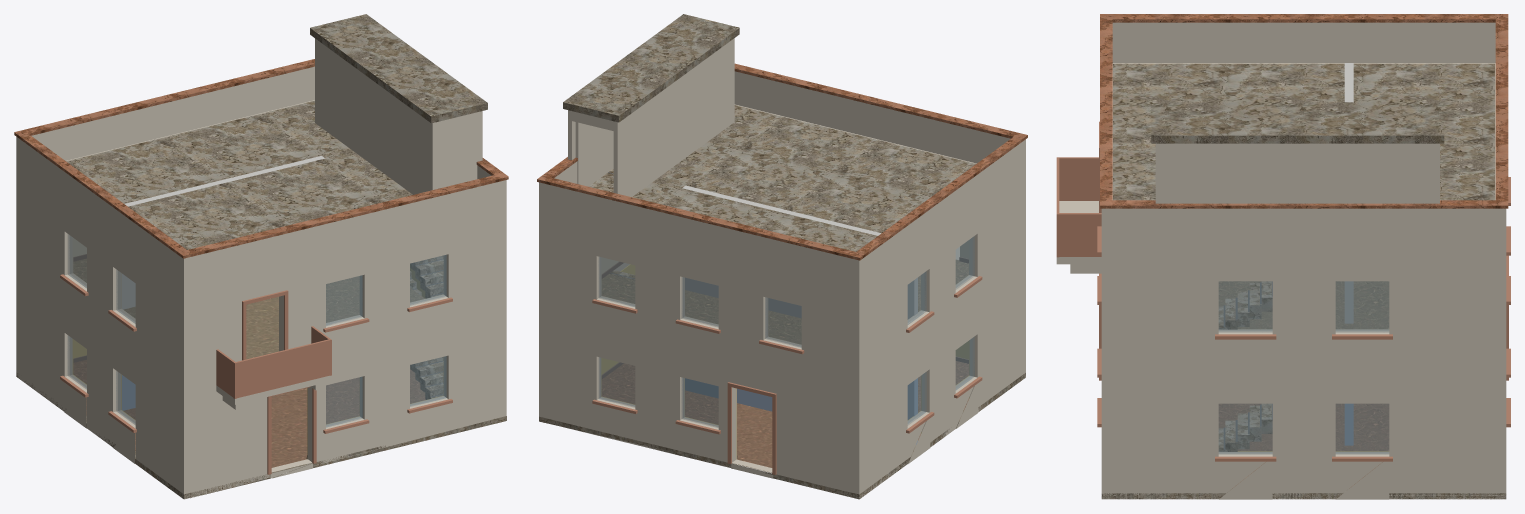
Rendered from bay-villa-cream.zfix-v9.lod0.glb.
3 renders of one model, left to right at view 1: azimuth 30°, elevation 25°; view 2: azimuth 150°, elevation 25°; view 3: azimuth 270°, elevation 25°, orthographic. The views are drawn at different scales.
Parts seen in each view (by area): view 1: bay-villa-cream; view 2: bay-villa-cream; view 3: bay-villa-cream.
Boxes of the visible parts, left/top/right/bottom form: bay-villa-cream: left=14, top=14, right=508, bottom=499; bay-villa-cream: left=537, top=14, right=1027, bottom=499; bay-villa-cream: left=1056, top=14, right=1510, bottom=499.
Size of the model in its own units: 10.2 by 8.96 by 10.12.
Materials: 4 (2 with a texture image).
